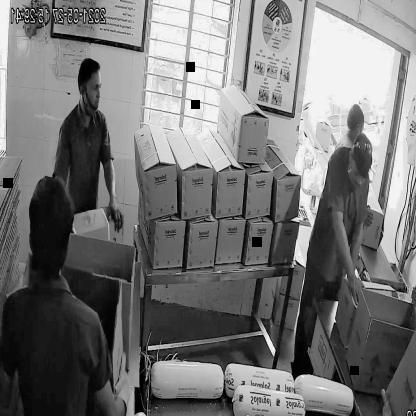no_goggles: (78, 77, 104, 100)
